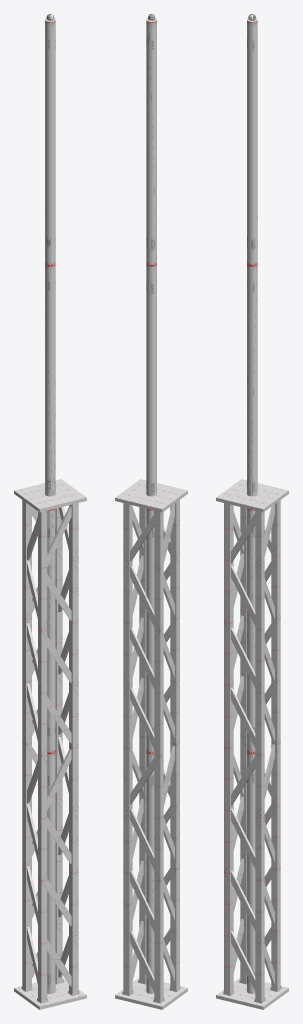
The model's file is rd4_antenne.FBX.
3 views of the same model, side by side, from view 1: azimuth 30°, elevation 25°; view 2: azimuth 150°, elevation 25°; view 3: azimuth 330°, elevation 25° (orthographic).
Visible parts, largest first — view 1: rd4_antenne; view 2: rd4_antenne; view 3: rd4_antenne.
Boxes of the visible parts, x1,y1,x2,y2 form: rd4_antenne: (14,14,86,1009); rd4_antenne: (115,14,187,1009); rd4_antenne: (216,14,288,1009).
Bounding box in the file's own units: 3.91 × 3.65 × 77.35.
